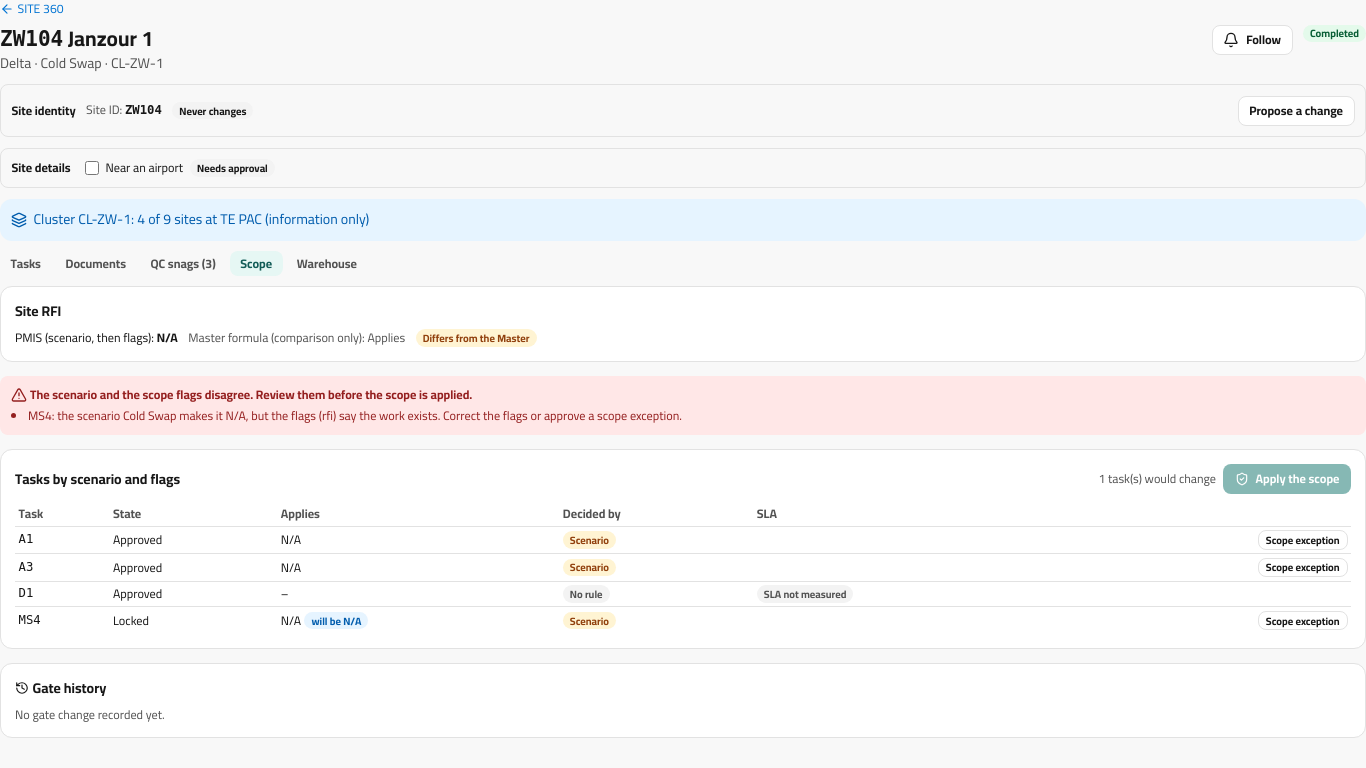
Q15 and Q3: the Scope section of a site › approves a scope exception with a reason and a step-up, which resolves the conflict
Click the button with test id "scope-exception-MS4": {"x": 1303, "y": 621} [1258,611,1348,630]
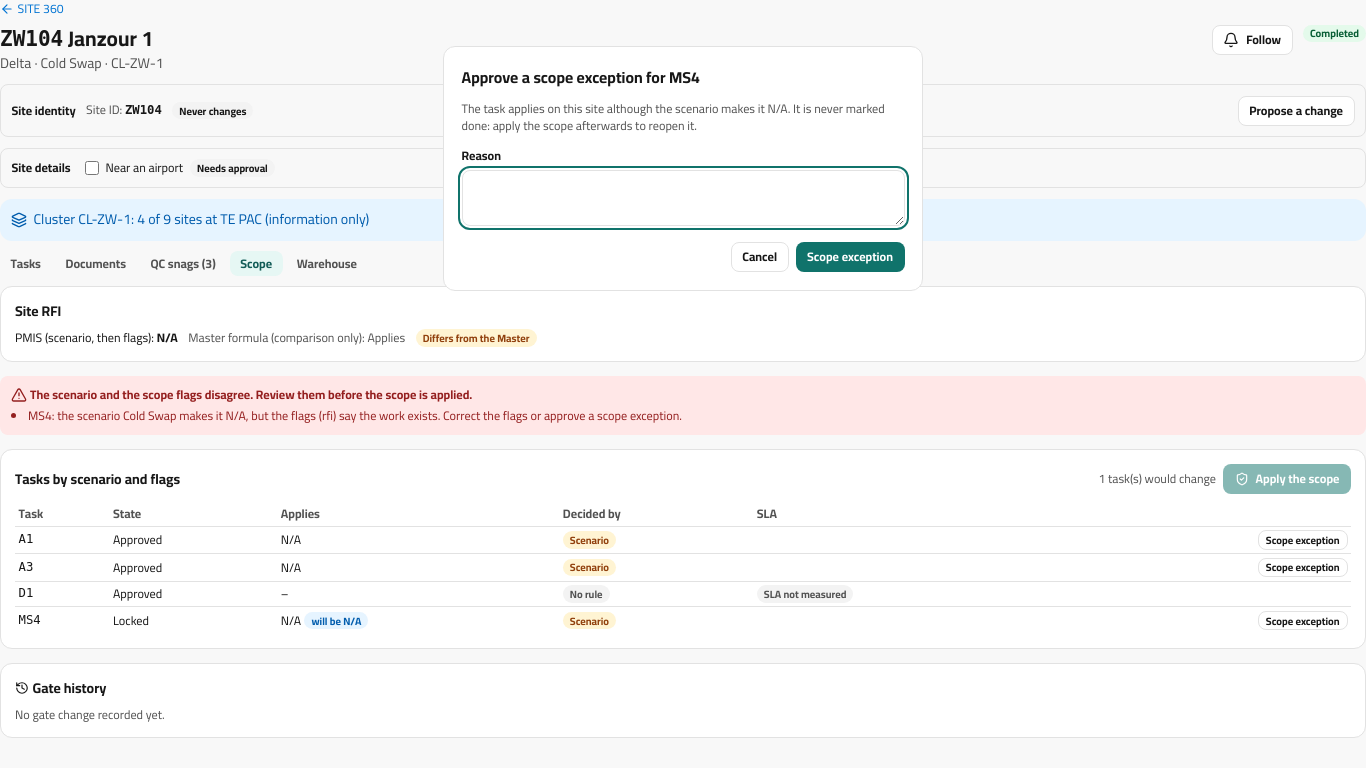
In the text box with test id "scope-exc-dlg-reason": {"x": 683, "y": 198} [462,170,904,226], type "POWERCO power is needed on this Swap"
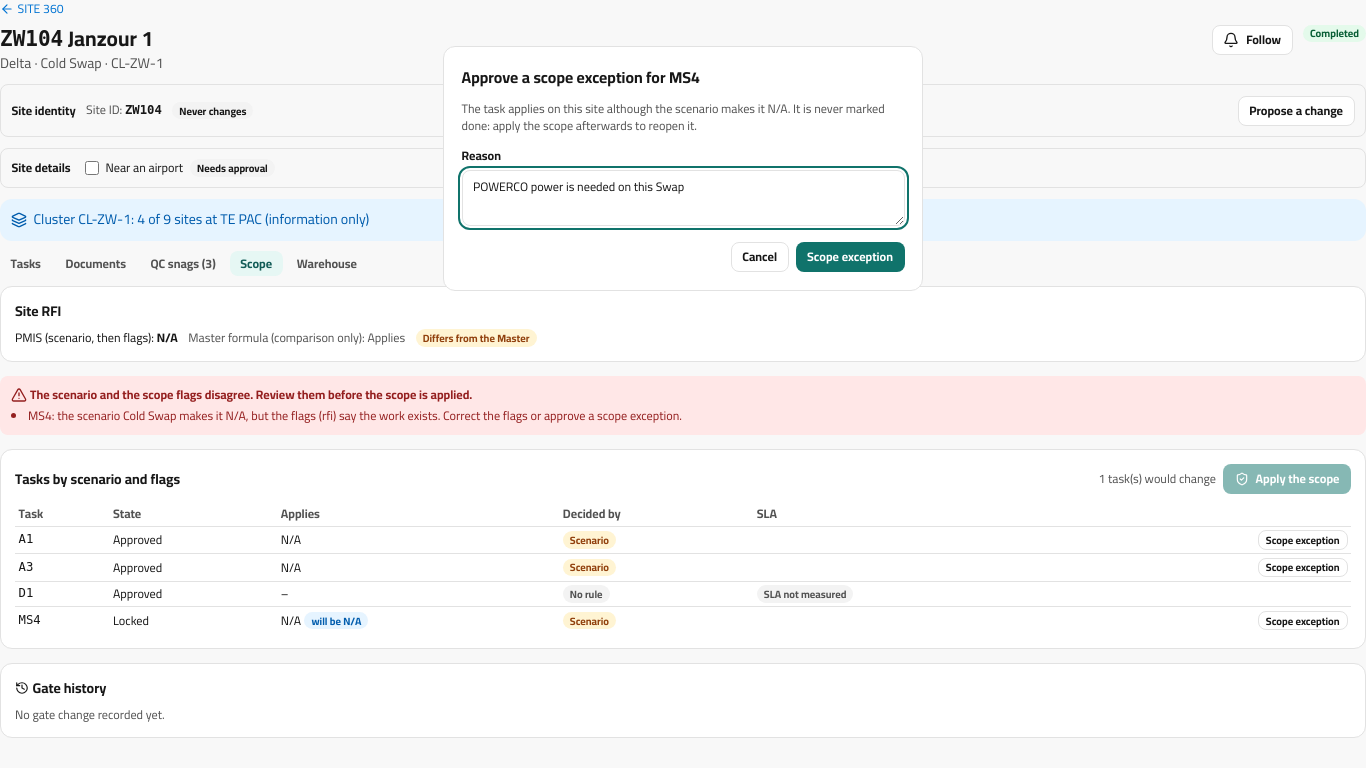
Click the button with test id "scope-exc-dlg-submit": {"x": 850, "y": 257} [796,242,904,272]
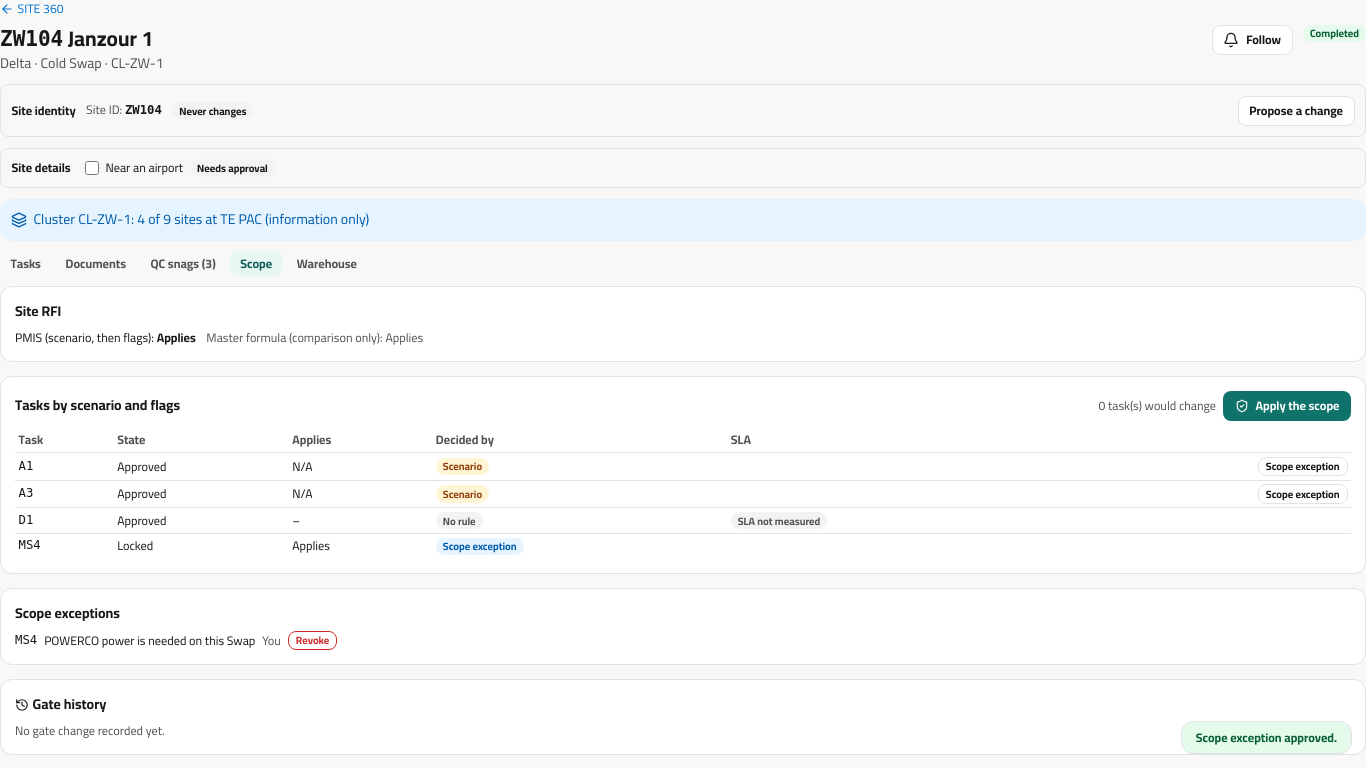
Result: the message with test id "scope-conflicts" is gone
Result: the text with test id "scope-rfi-applies" reads "Applies" at [157,326,196,349]
Result: the button with test id "scope-apply" is enabled at [1223,390,1351,420]
